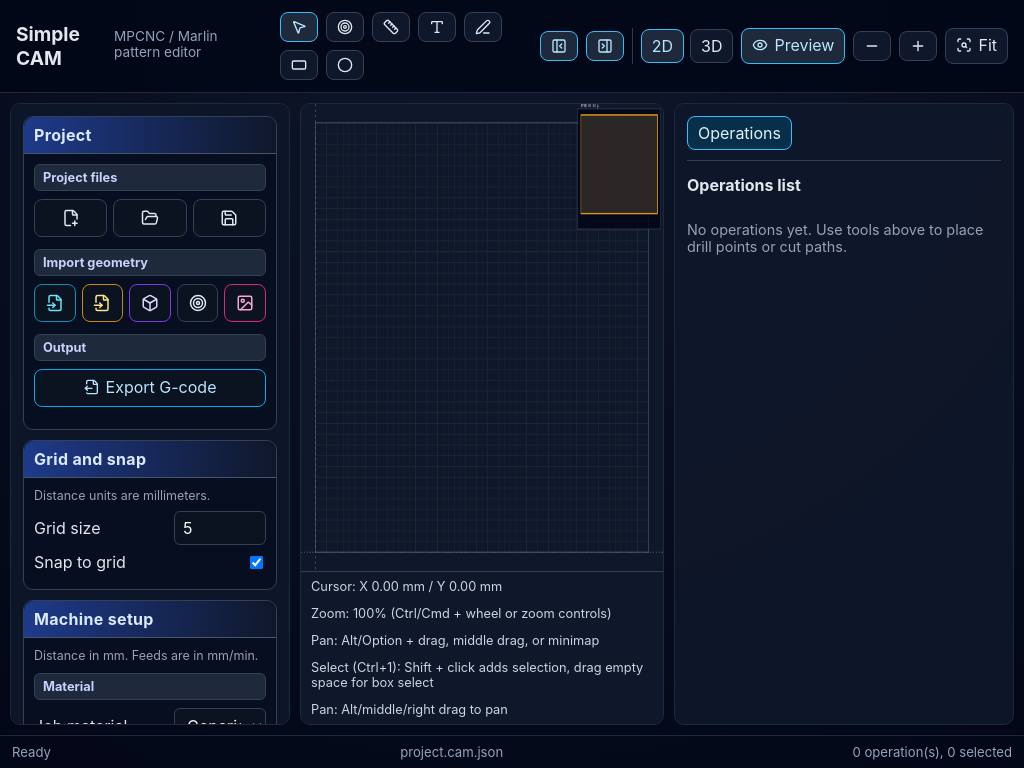
App › creates a sketch and enters sketch edit tools when clicking New Sketch
Click the button named "New Sketch". click: (483, 27)
box: [464,12,502,42]
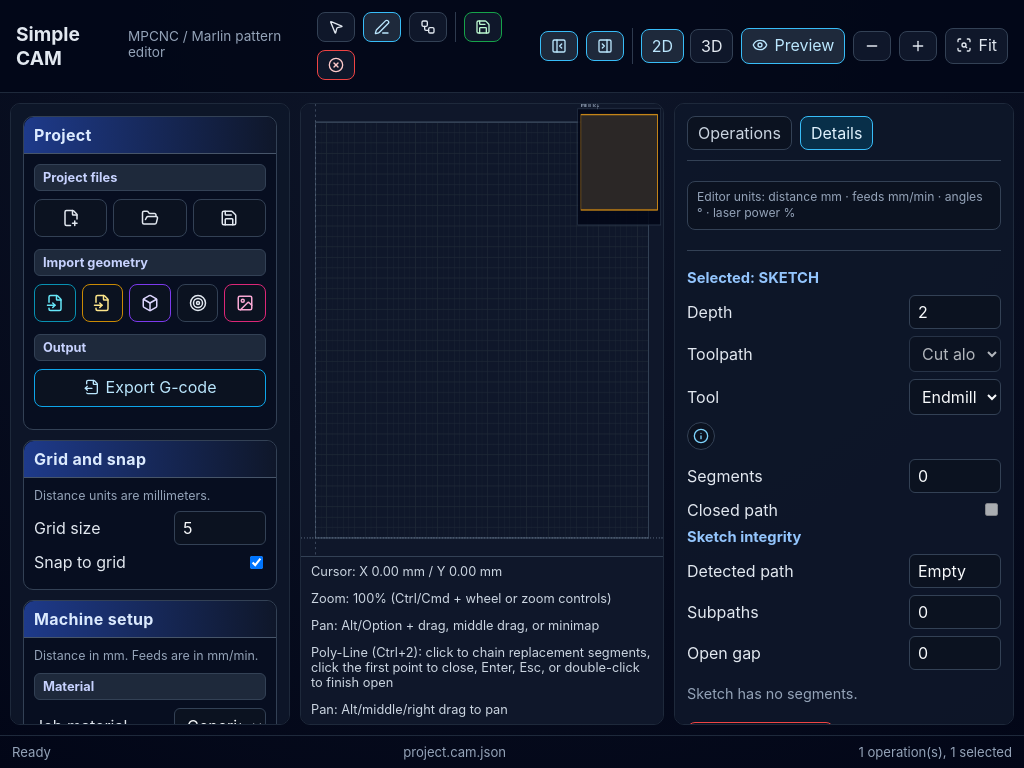
Result: the button named "Poly-Arc" is shown at [409,12,447,42]
Result: the button named "Finish sketch edit" is shown at [464,12,502,42]
Result: the button named "Cancel Sketch" is shown at [317,50,355,80]
